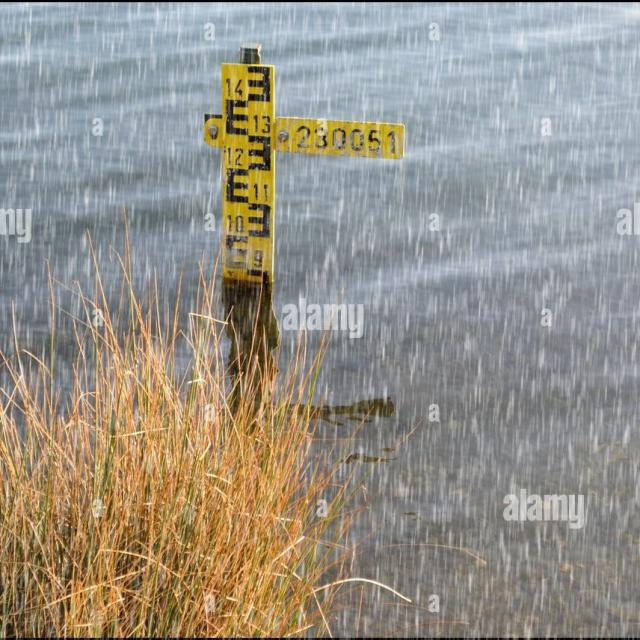ruler: (210, 42, 284, 286)
value: (224, 144, 250, 170), (222, 210, 246, 235), (250, 112, 272, 136), (222, 76, 244, 100), (253, 179, 274, 204), (248, 246, 269, 268)
